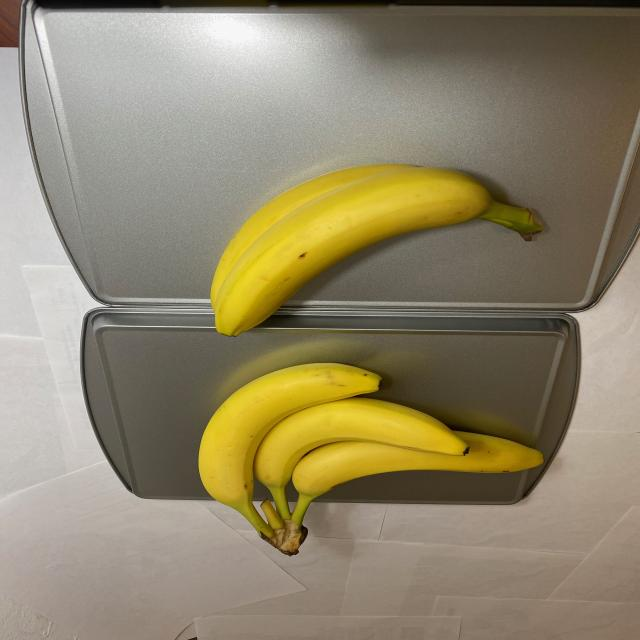banana: (191, 360, 554, 557), (198, 161, 560, 341)
